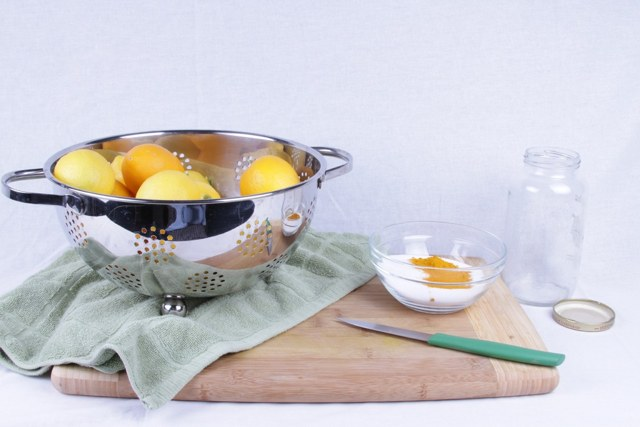bowl: (369, 221, 507, 315)
